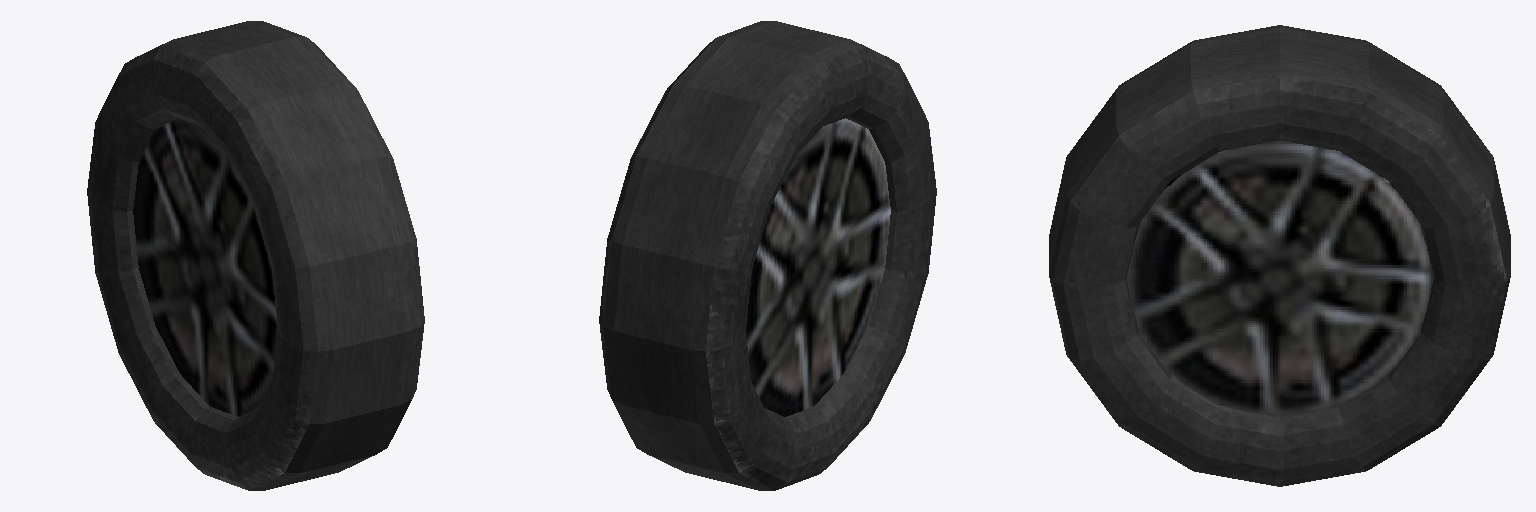
The picture shows the model from 3 angles: view 1: azimuth 30°, elevation 25°; view 2: azimuth 150°, elevation 25°; view 3: azimuth 270°, elevation 25°; orthographic projection.
Visible parts, largest first — view 1: default; view 2: default; view 3: default.
Boxes of the visible parts, x1=… form: default: x1=87, y1=21, x2=424, y2=490; default: x1=599, y1=21, x2=936, y2=490; default: x1=1049, y1=25, x2=1510, y2=486.
Size of the model in its own units: 1 by 3.12 by 3.12.
Materials: 1 (1 with a texture image).